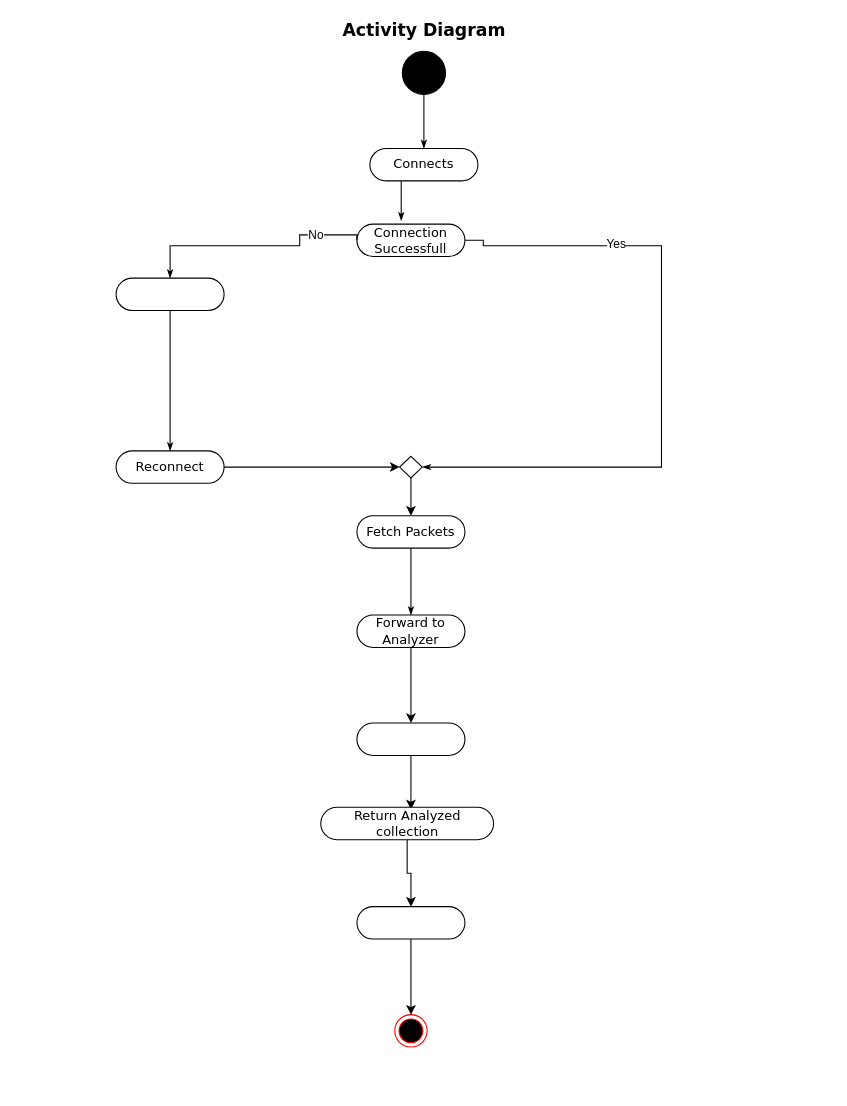
Some shapes in this 847 by 1106 pixel diagram are drawn without their labels. The centre of each missing label's shape, as x and y in pixels:
Analyze Packet by type: [410,738]
Display Packets: [410,922]
Show Error Messege: [169,293]
